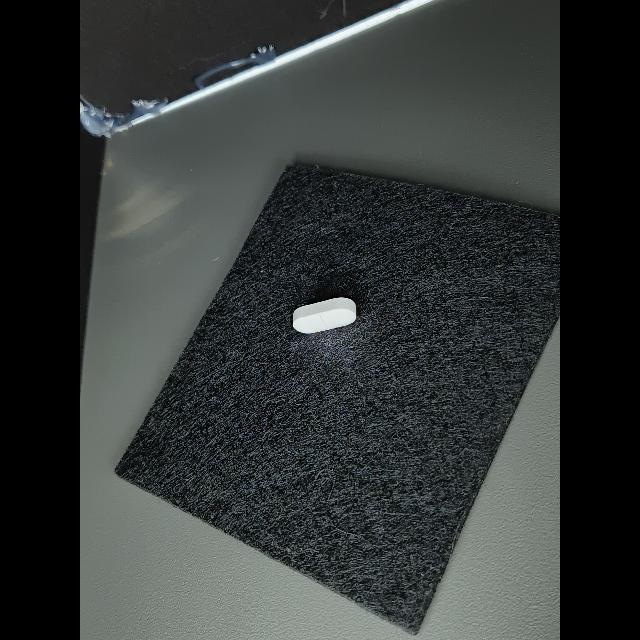Intact Pill: (293, 298, 356, 334)
